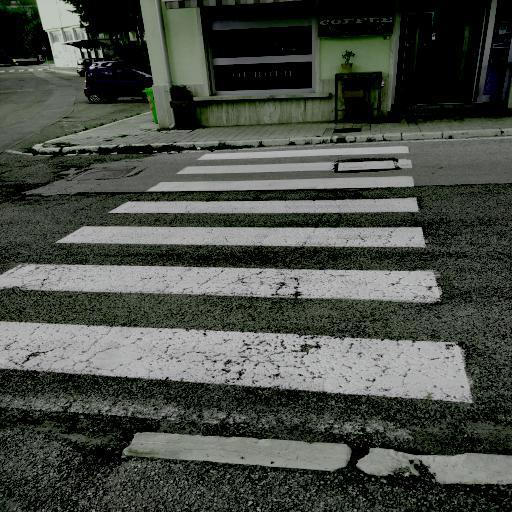crosswalk: (0, 258, 478, 411), (104, 174, 426, 216)
